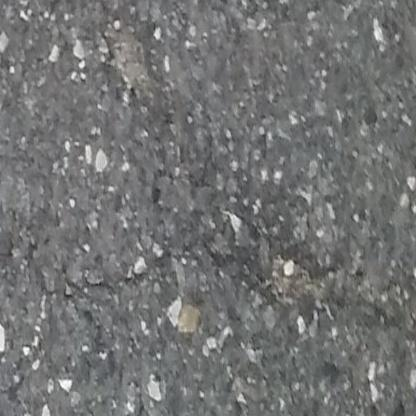Cracks: (237, 214, 363, 321), (88, 0, 164, 113), (39, 248, 177, 302), (0, 244, 15, 271)
